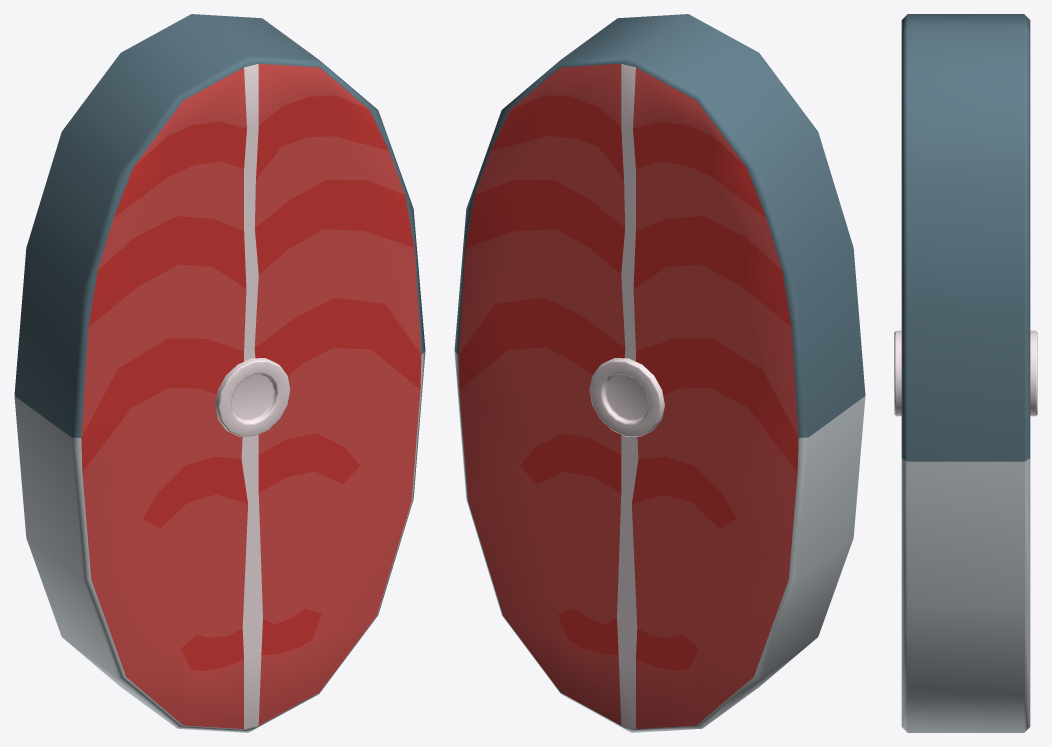
Rendered from Tuna_1_Slice.fbx.
The picture shows the model from 3 angles, left to right: view 1: azimuth 30°, elevation 25°; view 2: azimuth 150°, elevation 25°; view 3: azimuth 270°, elevation 25°; orthographic projection. The views are drawn at different scales.
Parts seen in each view (by area): view 1: Tuna_1_Slice; view 2: Tuna_1_Slice; view 3: Tuna_1_Slice.
Part boxes in pixels (box(x1,y1,x2,y2)): Tuna_1_Slice: box(14, 14, 425, 732); Tuna_1_Slice: box(454, 14, 865, 732); Tuna_1_Slice: box(894, 14, 1037, 732).
Size of the model in its own units: 24.63 by 45.03 by 8.44.
